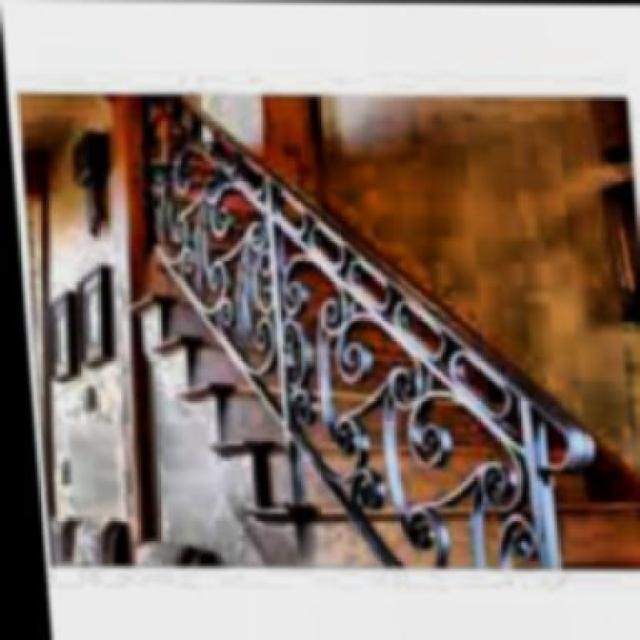stair: (120, 284, 638, 624)
